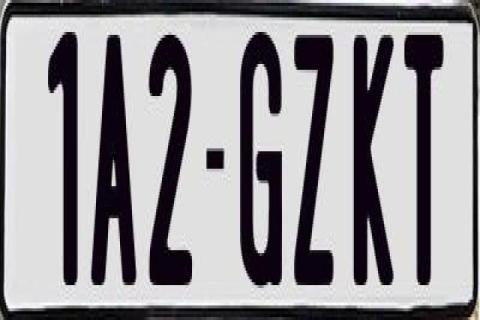0: (147, 35, 197, 299), (46, 32, 84, 300)
A: (90, 26, 136, 282)
G: (240, 23, 290, 297)
K: (351, 29, 398, 297)
T: (401, 29, 447, 297)
Z: (293, 29, 339, 279)
